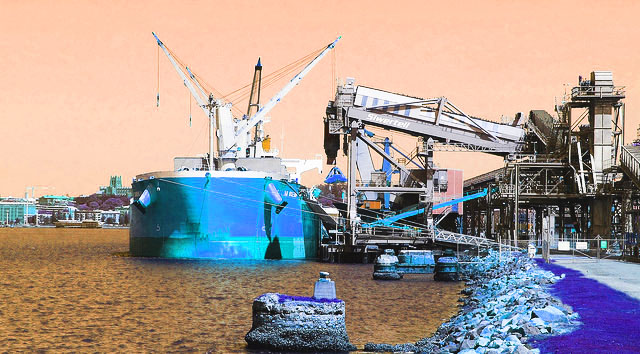bulk carrier: (129, 27, 323, 258)
